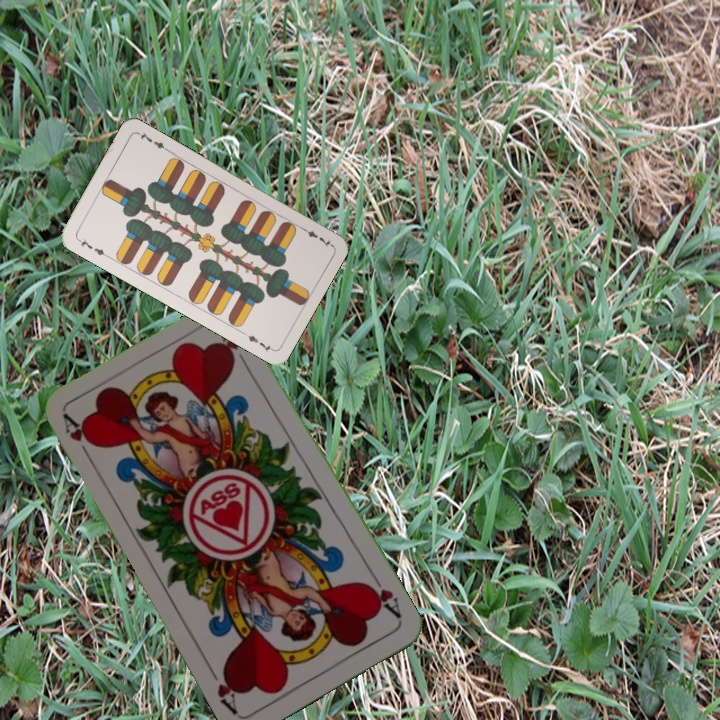E7: (297, 223, 334, 250), (73, 234, 111, 260)
HA: (360, 569, 404, 621), (59, 411, 100, 465)
